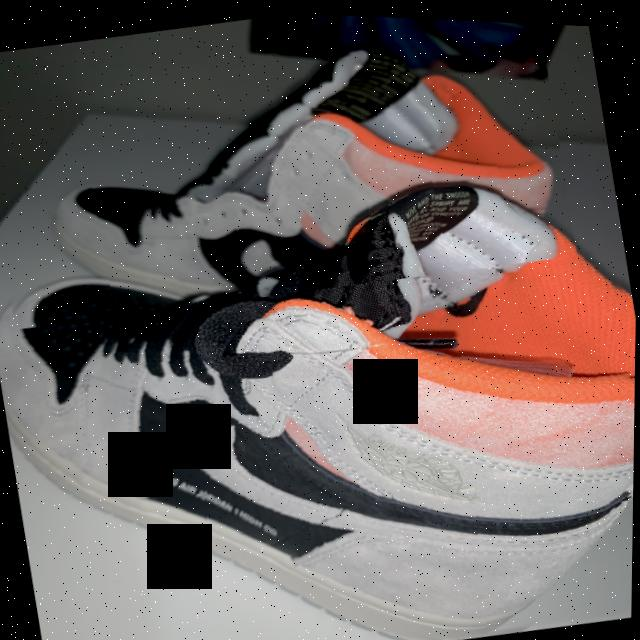shoe: (0, 131, 638, 640), (0, 0, 580, 349)
